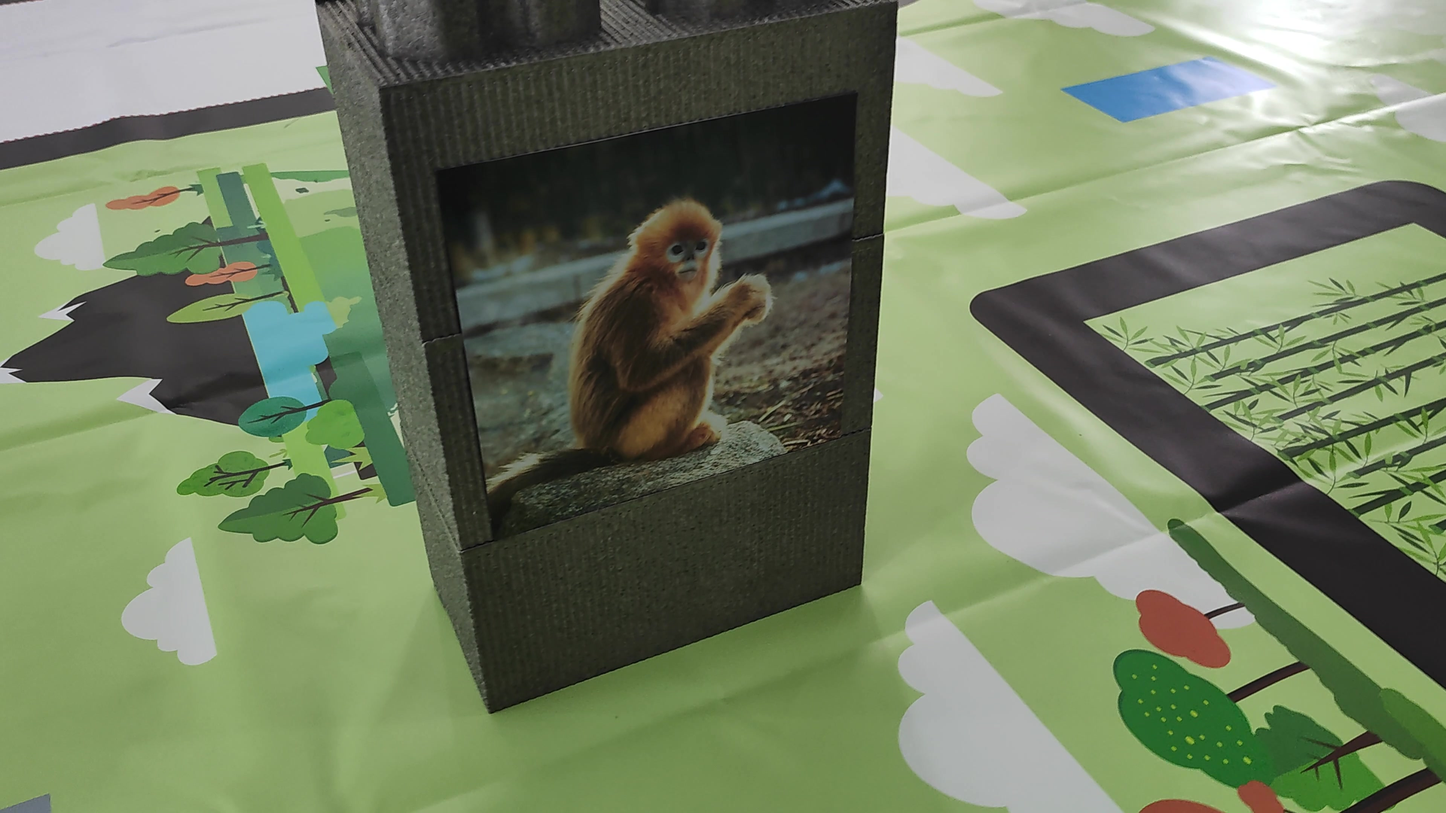monkey: (488, 189, 780, 521)
